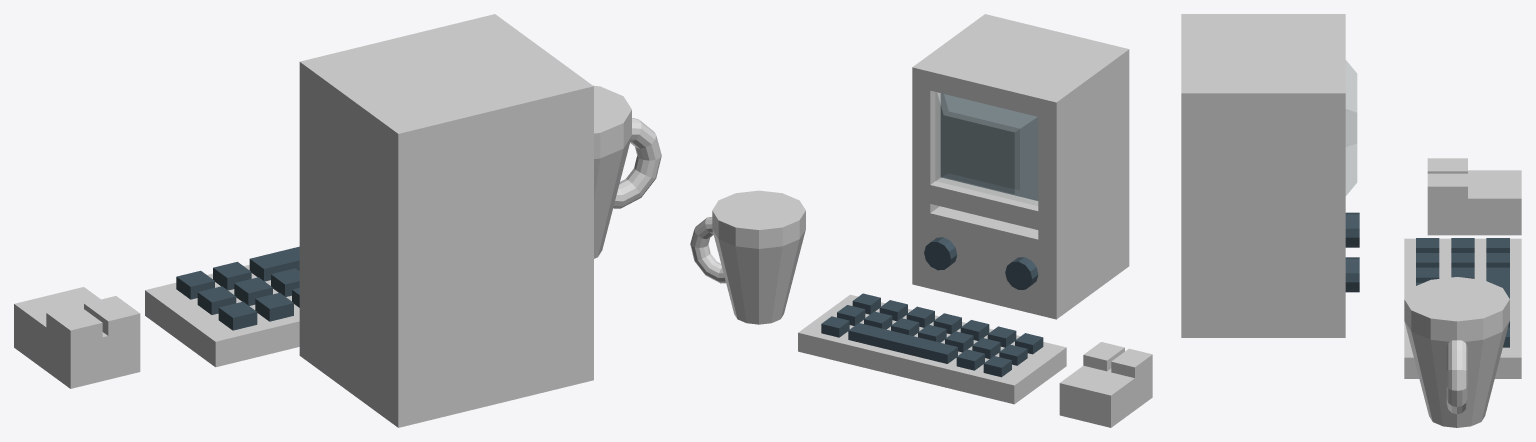
Rendered from decoder.glb.
3 renders of one model, left to right at view 1: azimuth 30°, elevation 25°; view 2: azimuth 150°, elevation 25°; view 3: azimuth 270°, elevation 25°, orthographic. The views are drawn at different scales.
Parts seen in each view (by area): view 1: group1351094341, group1151306919, group358281752, group1917580551, group810296585, group353771075, group1426099186, group440711882, group2063764725, group1099941530, group1096974411, group1429705485 (+4 smaller); view 2: group1351094341, group1151306919, group353771075, group2041770855, group738949765, group810296585, group756254376, group1917580551, group358281752, group440711882, group348254951, group2063764725 (+6 smaller); view 3: group1351094341, group440711882, group353771075, group358281752, group1917580551, group810296585, group2041770855, group1426099186, group1151306919, group941838811, group1141516371, group2063764725 (+7 smaller).
Boxes of the visible parts, x1,y1,x2,y2 form: group1351094341: (349, 50, 593, 427); group1151306919: (299, 56, 372, 391); group358281752: (14, 287, 140, 388); group1917580551: (324, 20, 519, 91); group810296585: (145, 264, 299, 367); group353771075: (593, 85, 631, 258); group1426099186: (613, 118, 661, 208); group440711882: (471, 14, 543, 55); group2063764725: (249, 246, 299, 281); group1099941530: (218, 301, 257, 330); group1096974411: (255, 292, 293, 321); group1429705485: (197, 286, 236, 314); group1351094341: (949, 14, 1129, 292); group1151306919: (1038, 71, 1092, 319); group353771075: (712, 190, 805, 324); group2041770855: (935, 92, 1037, 205); group738949765: (940, 93, 1038, 200); group810296585: (798, 294, 1066, 404); group756254376: (930, 206, 1038, 314); group1917580551: (930, 45, 1074, 116); group358281752: (1059, 342, 1152, 427); group440711882: (912, 40, 966, 288); group348254951: (930, 177, 1038, 229); group2063764725: (848, 323, 957, 363); group1351094341: (1181, 14, 1263, 337); group440711882: (1263, 83, 1345, 337); group353771075: (1404, 277, 1509, 427); group358281752: (1427, 158, 1521, 235); group1917580551: (1263, 24, 1345, 83); group810296585: (1404, 238, 1521, 378); group2041770855: (1345, 60, 1357, 195); group1426099186: (1446, 340, 1467, 414); group1151306919: (1263, 14, 1345, 23); group941838811: (1345, 257, 1359, 292); group1141516371: (1345, 212, 1359, 247); group2063764725: (1486, 267, 1509, 327).
Size of the model in its own units: 0.4971 by 0.25 by 0.29.
